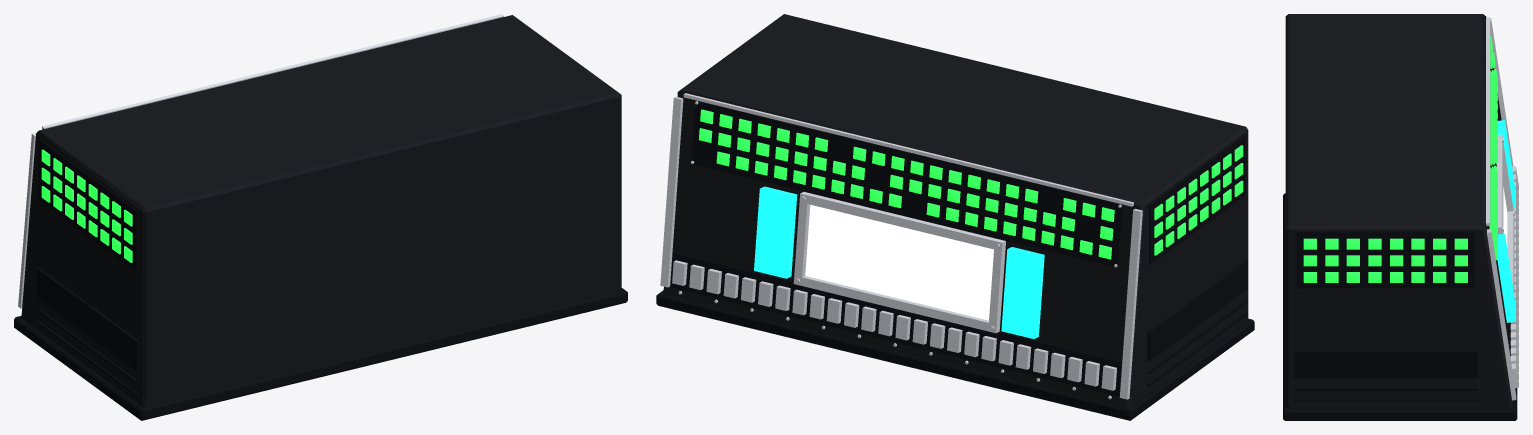
File: deck_lace.glb
The picture shows the model from 3 angles, left to right: view 1: azimuth 30°, elevation 25°; view 2: azimuth 150°, elevation 25°; view 3: azimuth 270°, elevation 25°; orthographic projection. The views are drawn at different scales.
Parts seen in each view (by area): view 1: deck_lace_deco_body, deck_lace_deco_trim, deck_lace_deco_led, deck_lace_chrome; view 2: deck_lace_deco_body, deck_lace_deco_trim, deck_lace_chrome, deck_lace_acrylic_sign, deck_lace_deco_led, deck_lace_deco_neon; view 3: deck_lace_deco_body, deck_lace_deco_trim, deck_lace_deco_led, deck_lace_chrome, deck_lace_deco_neon.
Part boxes in pixels (<box>): deck_lace_deco_body: <box>21,15,621,407</box>; deck_lace_deco_trim: <box>14,139,627,420</box>; deck_lace_deco_led: <box>41,149,132,262</box>; deck_lace_chrome: <box>18,14,503,308</box>; deck_lace_deco_body: <box>663,14,1248,407</box>; deck_lace_deco_trim: <box>656,100,1254,420</box>; deck_lace_chrome: <box>660,93,1142,399</box>; deck_lace_acrylic_sign: <box>805,204,993,320</box>; deck_lace_deco_led: <box>698,109,1243,259</box>; deck_lace_deco_neon: <box>754,186,1044,338</box>; deck_lace_deco_body: <box>1285,14,1513,408</box>; deck_lace_deco_trim: <box>1283,67,1517,420</box>; deck_lace_deco_led: <box>1303,35,1497,282</box>; deck_lace_chrome: <box>1486,17,1518,400</box>; deck_lace_deco_neon: <box>1497,120,1515,322</box>.
Bounding box in the file's own units: 2.14 × 0.88 × 0.9761.
